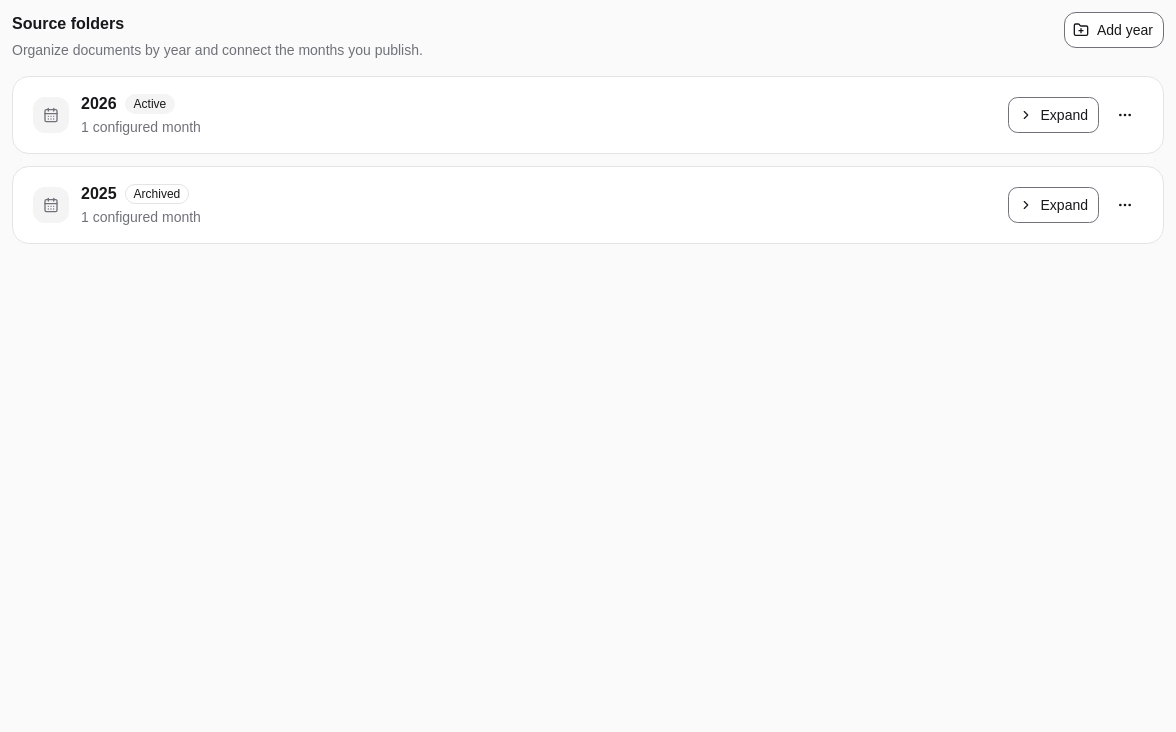
Test: month source details › shows a failed refresh and its error in the disclosed details
Click the button with aria-label "Expand 2026": (1053,115) top-left (1008, 97), bottom-right (1099, 133)
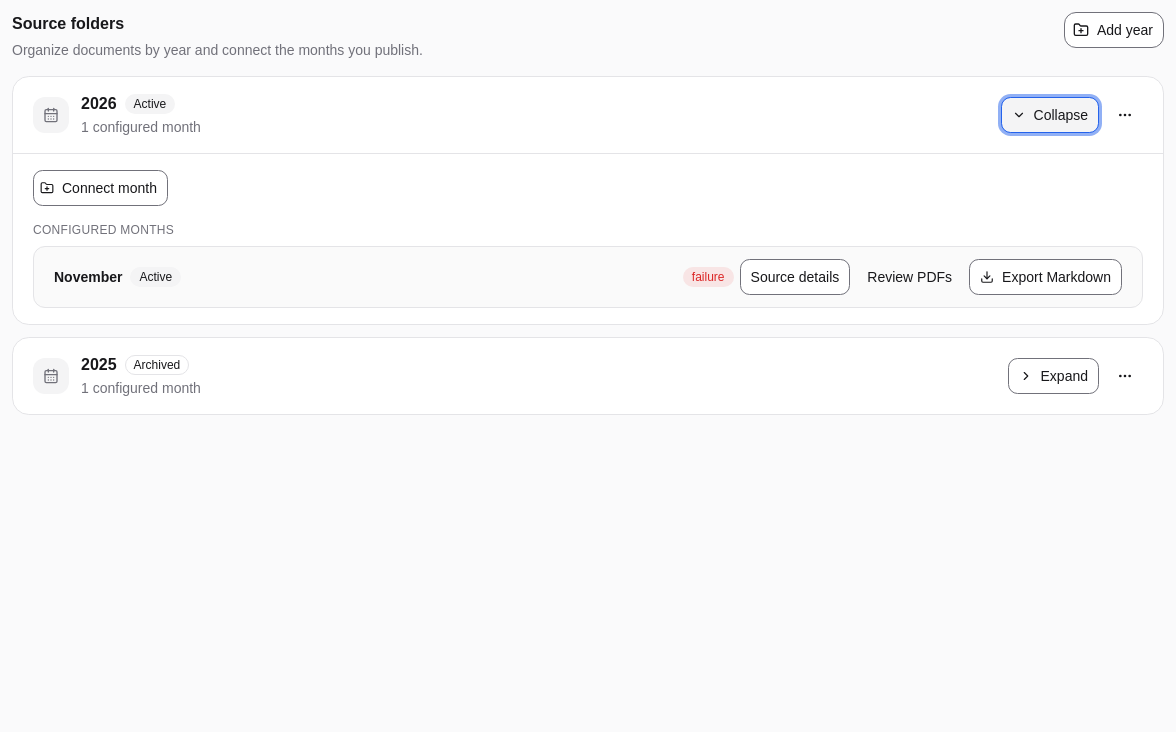
Check: the icon "failure" is shown, box top-left (683, 267), bottom-right (734, 287)
Click the button with aria-label "Show source details for November": (795,277) top-left (740, 259), bottom-right (850, 295)
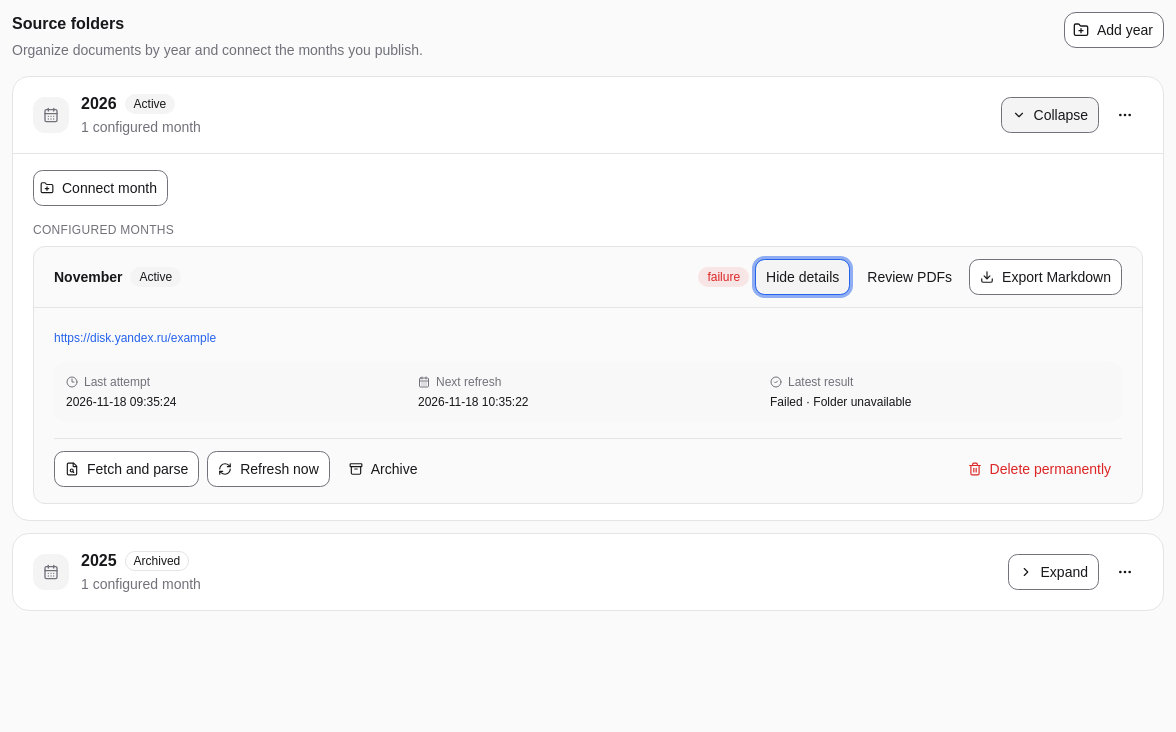
Check: the text "Failed · Folder unavailable" is shown, box top-left (770, 395), bottom-right (911, 409)
